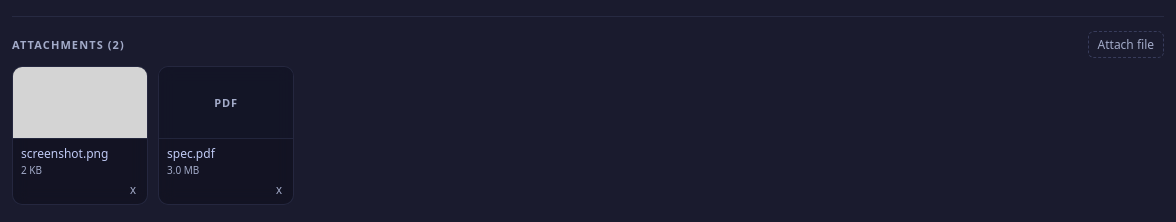
Scenario: TodoAttachments actions › removes an attachment through IPC and reloads the strip
Click the button named "Remove screenshot.png": (133, 190) [123,181,143,199]
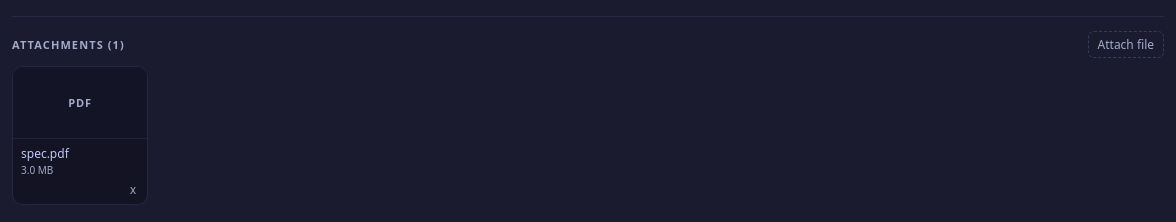
Now the text with alt text "screenshot.png" is gone
